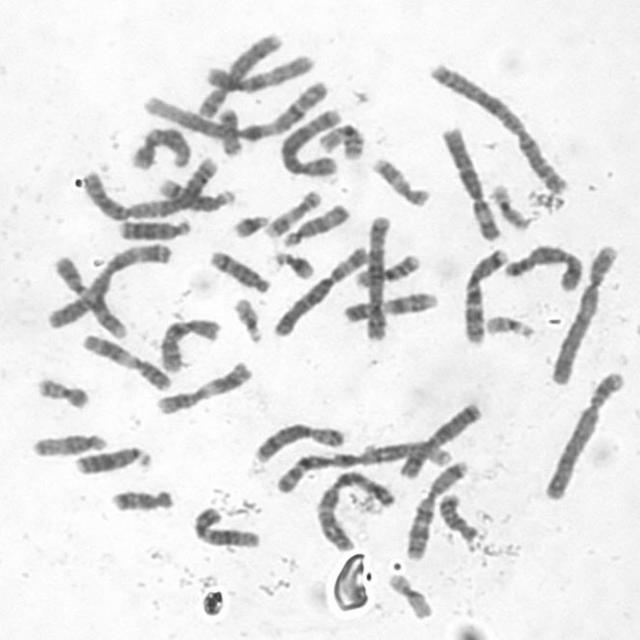A1: (140, 75, 334, 143), (270, 436, 452, 495)
A2: (424, 57, 573, 195), (80, 152, 222, 221)
A3: (42, 238, 174, 329), (312, 465, 397, 553)
B4: (540, 365, 628, 503), (547, 239, 622, 387)
B5: (276, 103, 344, 179), (363, 210, 393, 342)
C10: (202, 48, 318, 94), (156, 313, 222, 374)
C11: (151, 356, 255, 417), (76, 329, 175, 392)
C12: (188, 502, 263, 550), (125, 121, 193, 172)
C6: (270, 241, 373, 338), (436, 120, 504, 243)
C7: (403, 455, 473, 562), (457, 242, 511, 346)
C8: (193, 26, 286, 120), (250, 418, 348, 464)
C9: (48, 250, 130, 341), (340, 286, 440, 324)
D13: (71, 441, 154, 476), (114, 214, 193, 242)
D14: (205, 245, 272, 295), (154, 173, 237, 213)
D15: (279, 199, 352, 248), (28, 428, 109, 458)
E16: (350, 248, 423, 288), (316, 118, 368, 161)
E17: (368, 151, 432, 208), (261, 185, 323, 239)
E18: (434, 490, 480, 543), (106, 484, 178, 514)
F19: (382, 569, 436, 621), (487, 179, 532, 231)
F20: (32, 372, 92, 411), (213, 103, 245, 156)
G21: (268, 246, 318, 281), (228, 209, 272, 239)
G22: (228, 292, 267, 344), (482, 309, 537, 341)
X: (394, 398, 486, 481), (499, 239, 585, 293)
